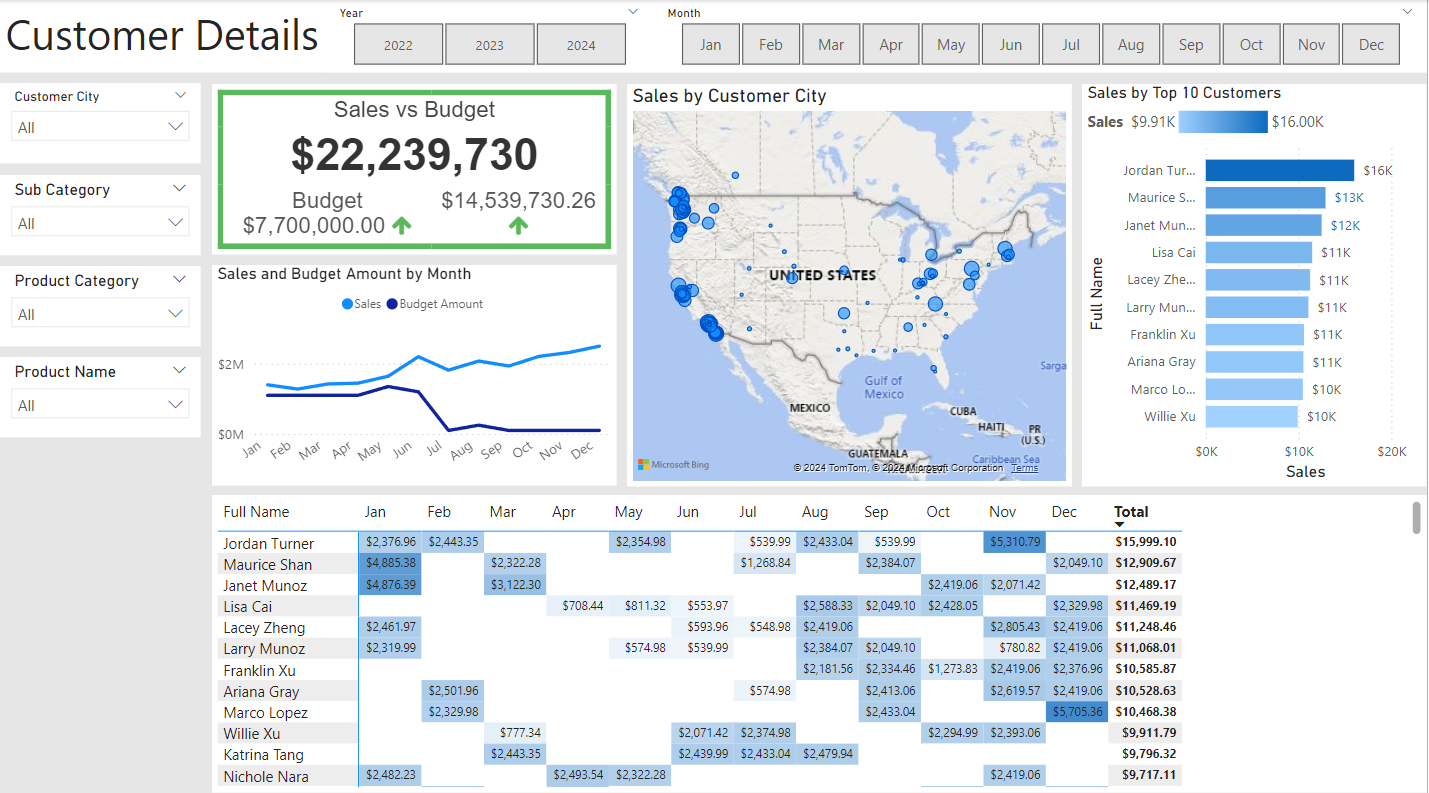

This screenshot's page, from the dashboard's own definition file:
{"tool":"powerbi","page":{"name":"Customer Details","canvas":[1280,720],"ordinal":1},"visuals":[{"type":"textbox","box":[0,0,1280,65.2],"z":0},{"type":"slicer","fields":{"Values":["DIM_Customers.Customer City"]},"box":[0,74.9,179.9,72],"z":1000},{"type":"slicer","fields":{"Values":["DIM_Products.Sub Category"]},"box":[0,156.6,179.9,72],"z":2000},{"type":"slicer","fields":{"Values":["DIM_Products.Product Category"]},"box":[0,238.3,179.9,72],"z":3000},{"type":"slicer","fields":{"Values":["DIM_Products.Product Name"]},"box":[0,320,179.9,72],"z":4000},{"type":"slicer","fields":{"Values":["DIM_Calendar.Year"]},"box":[291.8,0,293.8,65.1],"z":5000},{"type":"slicer","fields":{"Values":["DIM_Calendar.MonthShort"]},"box":[585.6,0,694.4,65.1],"z":6000},{"type":"BBED0A4D4D8D44CE93CF2DAFADEE466C","fields":{"actual":["Key Measures.Sales"],"target1":["Key Measures.Budget Amount"],"target2":["Key Measures.Sales - Budget"]},"box":[190.2,75.3,363.3,153.4],"z":7000},{"type":"barChart","title":"Sales by Top 10 Customers","fields":{"Y":["Key Measures.Sales"],"Category":["DIM_Customers.Full Name"]},"box":[970.5,75.3,309.5,360.6],"z":10000},{"type":"pivotTable","fields":{"Rows":["DIM_Customers.Full Name"],"Values":["Key Measures.Sales"],"Columns":["DIM_Calendar.MonthShort"]},"box":[190.2,444,1089.8,267.3],"z":11001},{"type":"map","fields":{"Category":["DIM_Customers.Customer City"],"Size":["Key Measures.Sales"]},"box":[562.4,75.3,399.2,360.6],"z":11002},{"type":"lineChart","title":"Sales and Budget Amount by Month","fields":{"Y":["Key Measures.Sales","Key Measures.Budget Amount"],"Category":["DIM_Calendar.MonthShort"]},"box":[190.2,237.7,363.3,198.2],"z":11003}]}

Visuals, with their boxes in screenshot pixels (x1, y1, x2, y2), scaled from the page's 1280x720 canvas onto the 1429x793 screenshot:
textbox: (left=0, top=0, right=1428, bottom=72)
slicer - DIM_Customers.Customer City: (left=0, top=82, right=201, bottom=162)
slicer - DIM_Products.Sub Category: (left=0, top=172, right=201, bottom=252)
slicer - DIM_Products.Product Category: (left=0, top=262, right=201, bottom=342)
slicer - DIM_Products.Product Name: (left=0, top=352, right=201, bottom=432)
slicer - DIM_Calendar.Year: (left=326, top=0, right=654, bottom=72)
slicer - DIM_Calendar.MonthShort: (left=654, top=0, right=1428, bottom=72)
BBED0A4D4D8D44CE93CF2DAFADEE466C - Key Measures.Sales x Key Measures.Budget Amount: (left=212, top=83, right=618, bottom=252)
"Sales by Top 10 Customers" barChart: (left=1083, top=83, right=1428, bottom=480)
pivotTable - DIM_Customers.Full Name x Key Measures.Sales: (left=212, top=489, right=1428, bottom=783)
map - DIM_Customers.Customer City x Key Measures.Sales: (left=628, top=83, right=1074, bottom=480)
"Sales and Budget Amount by Month" lineChart: (left=212, top=262, right=618, bottom=480)
